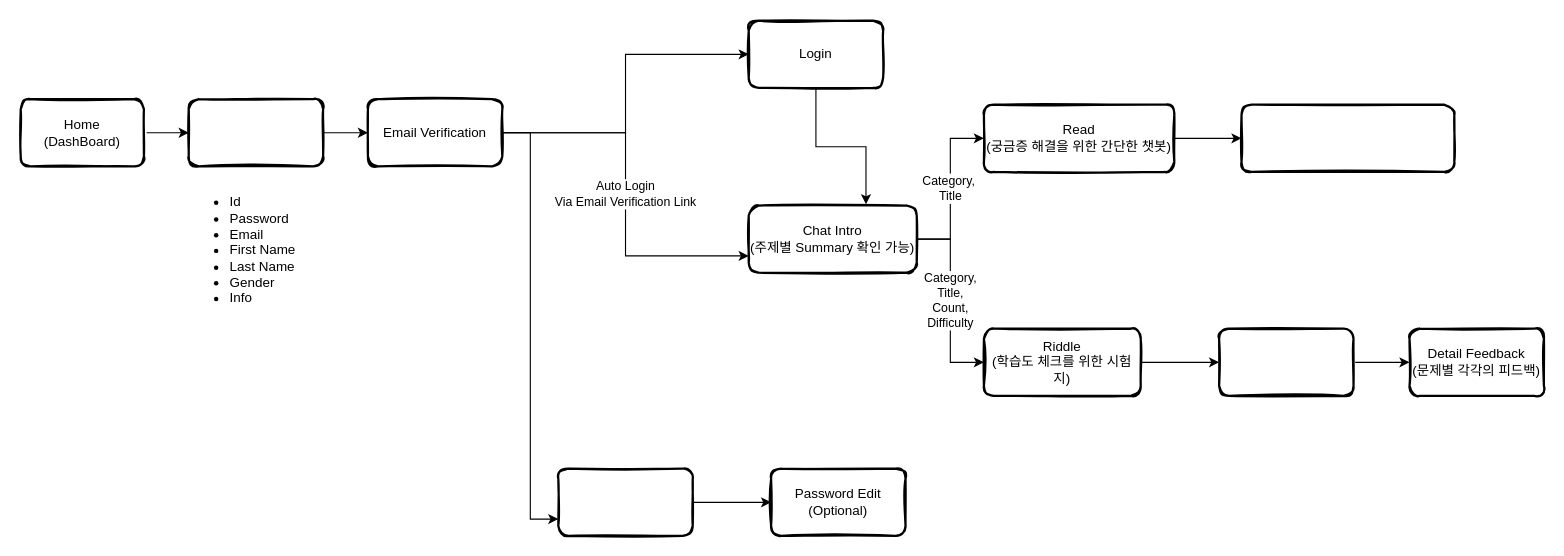
Some shapes in this 1564 by 556 pixel diagram are drawn without their labels. The box of each missing label's shape, as (x1, y1, x2, y2) in pixels:
Chat Sessions (이전 채팅 불러오기 및 이어 채팅하기): (1240, 103, 1455, 172)
Score (시험지 채점결과): (1217, 327, 1354, 396)
Signup: (187, 97, 324, 167)
User Profile (편집 가능): (557, 467, 693, 536)
